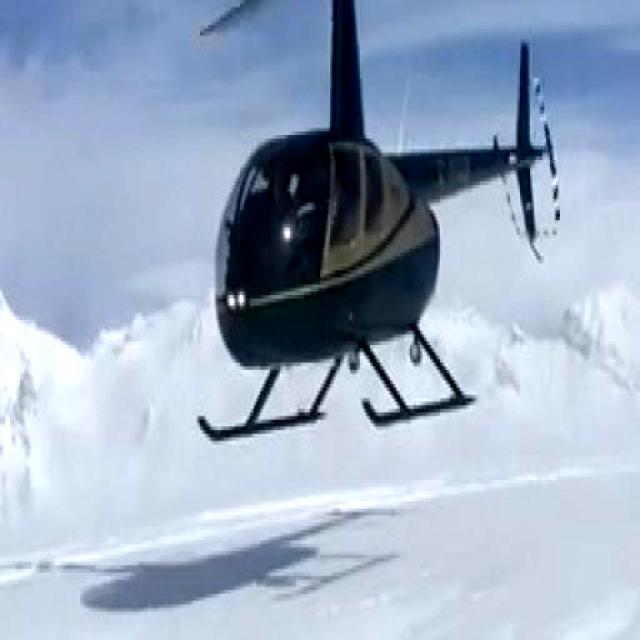drone: (198, 0, 565, 445)
